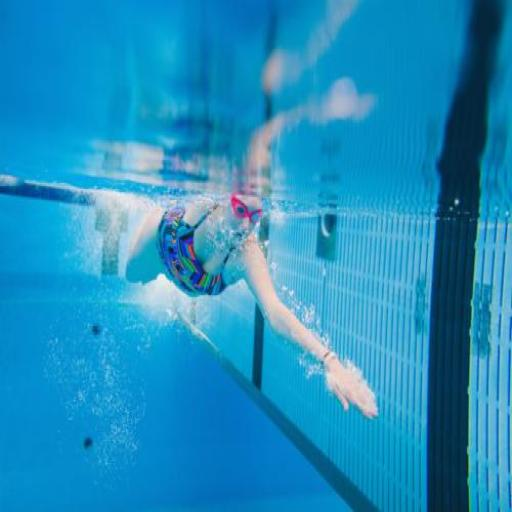swimming: (0, 168, 381, 422)
